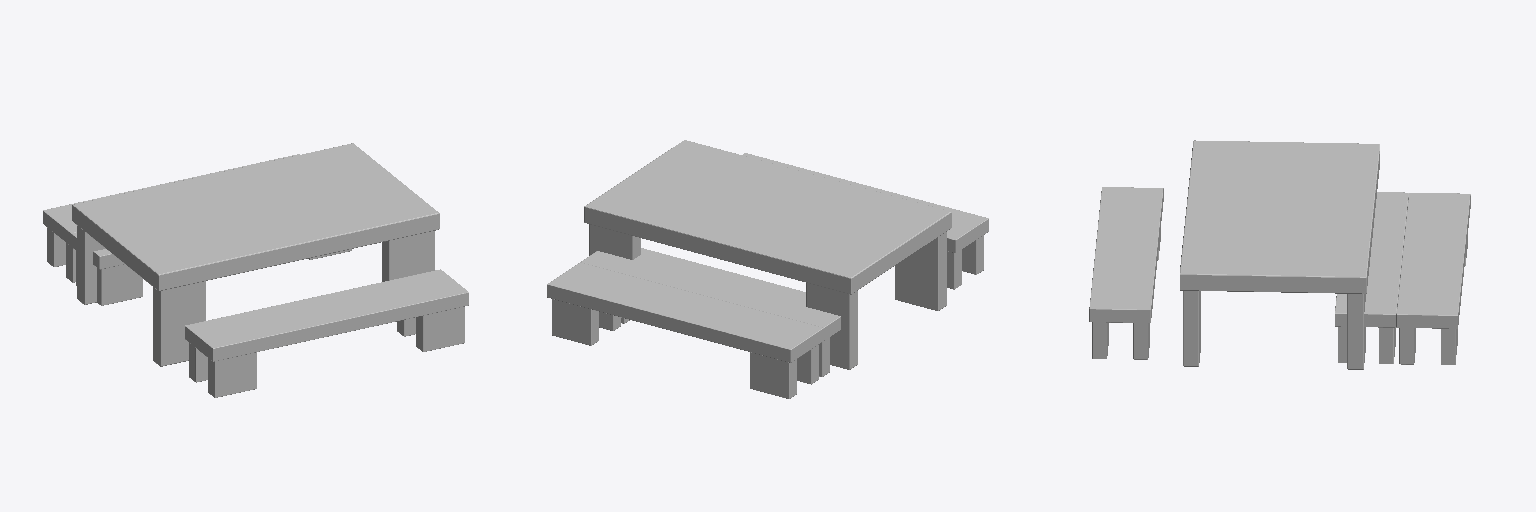
File: bancas.obj
The picture shows the model from 3 angles: view 1: azimuth 30°, elevation 25°; view 2: azimuth 150°, elevation 25°; view 3: azimuth 270°, elevation 25°; orthographic projection.
Visible parts, largest first — view 1: Table_Cube.001, Bench_2_Cube.004, Bench_Cube.003; view 2: Table_Cube.001, Bench_Cube.003, Bench_2_Cube.004; view 3: Table_Cube.001, Bench_Cube.003, Bench_2_Cube.004.
Boxes of the visible parts, x1=… form: Table_Cube.001: x1=72, y1=143, x2=439, y2=366; Bench_2_Cube.004: x1=185, y1=269, x2=468, y2=397; Bench_Cube.003: x1=43, y1=154, x2=351, y2=305; Table_Cube.001: x1=584, y1=140, x2=951, y2=369; Bench_Cube.003: x1=547, y1=248, x2=840, y2=398; Bench_2_Cube.004: x1=743, y1=153, x2=988, y2=289; Table_Cube.001: x1=1180, y1=140, x2=1379, y2=369; Bench_Cube.003: x1=1335, y1=192, x2=1470, y2=364; Bench_2_Cube.004: x1=1089, y1=187, x2=1163, y2=359.
Size of the model in its own units: 0.4838 by 0.1551 by 0.5677.